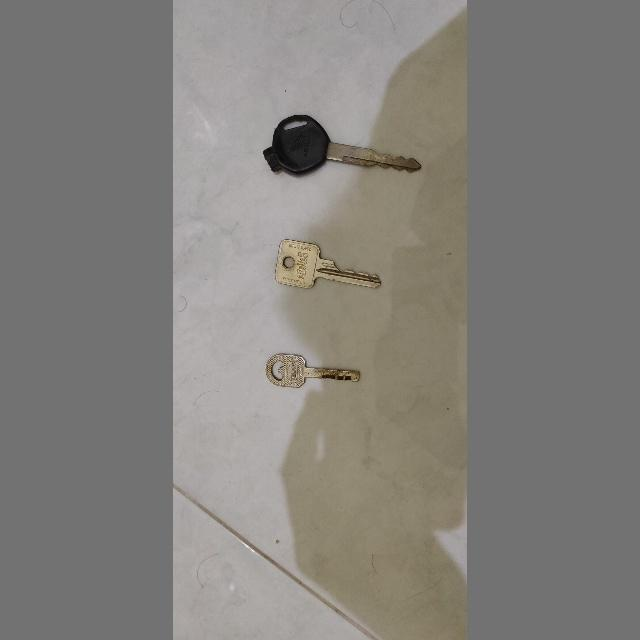Keys: (258, 114, 424, 190), (269, 232, 387, 300), (260, 346, 368, 392)
